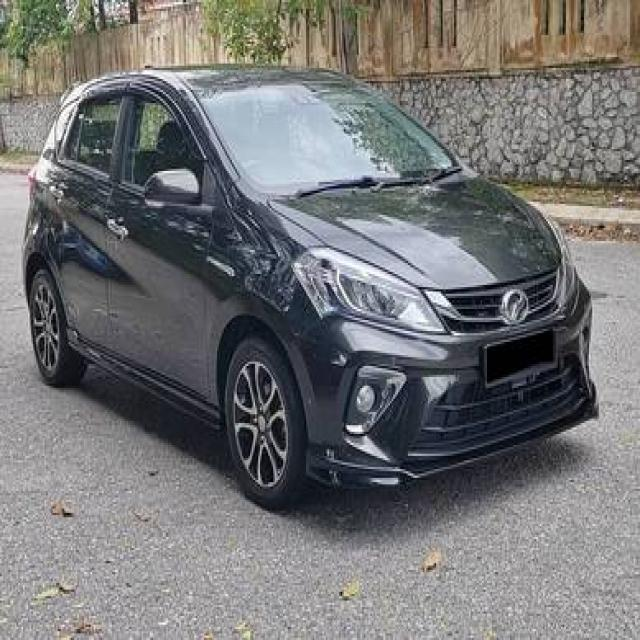PeroduaMyvi: (20, 59, 599, 511)
